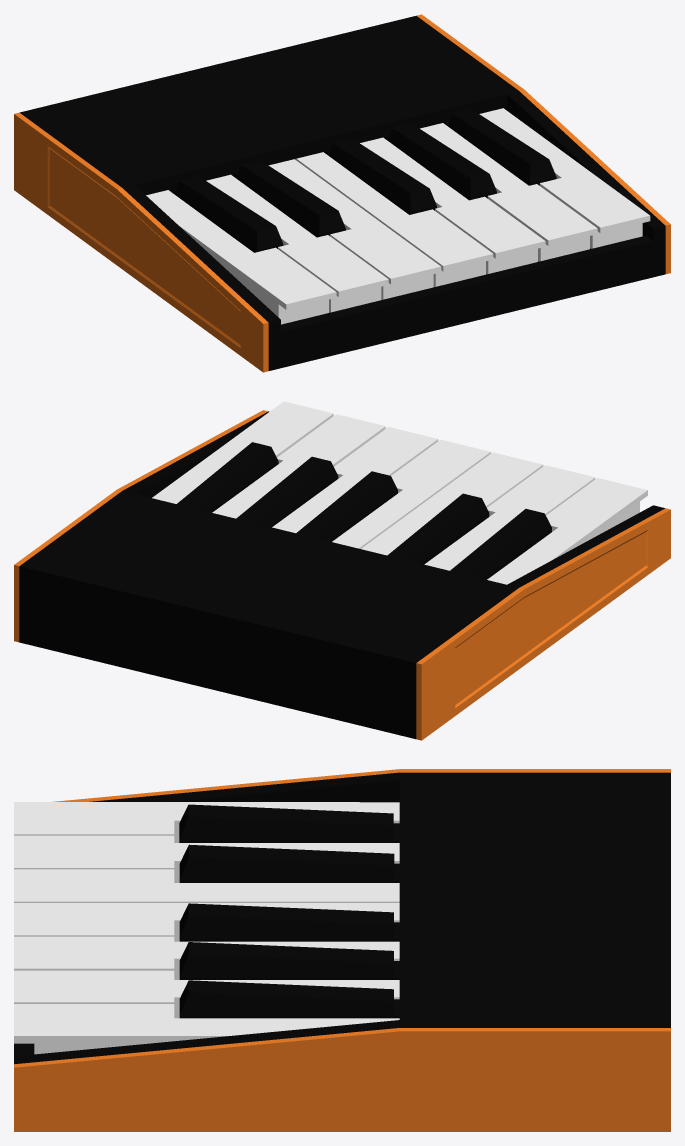
The model's file is keyboard_1_octave.glb.
The picture shows the model from 3 angles, top to bottom: view 1: azimuth 30°, elevation 25°; view 2: azimuth 150°, elevation 25°; view 3: azimuth 270°, elevation 25°; orthographic projection. The views are drawn at different scales.
Visible parts, largest first — view 1: body_keyboard, C, F, E, D, B, G, A, DSharp, CSharp, GSharp, FSharp (+1 smaller); view 2: body_keyboard, C, F, E, D, B, G, A, CSharp, DSharp, GSharp, FSharp (+1 smaller); view 3: body_keyboard, E, B, ASharp, FSharp, CSharp, C, D, DSharp, GSharp, G, F (+1 smaller).
Part boxes in pixels (box(x1,y1,x2,y2)): body_keyboard: box(14, 14, 670, 372); C: box(146, 190, 336, 324); F: box(295, 152, 493, 287); E: box(268, 159, 441, 299); D: box(206, 174, 388, 312); B: box(479, 108, 650, 248); G: box(360, 137, 545, 274); A: box(420, 123, 597, 261); DSharp: box(233, 160, 345, 237); CSharp: box(171, 176, 283, 252); GSharp: box(384, 123, 496, 200); FSharp: box(324, 138, 436, 214); body_keyboard: box(14, 410, 670, 740); C: box(487, 478, 647, 584); F: box(332, 439, 490, 548); E: box(361, 452, 543, 555); D: box(424, 465, 595, 570); B: box(152, 401, 333, 503); G: box(272, 427, 438, 533); A: box(212, 414, 385, 518); CSharp: box(450, 509, 551, 579); DSharp: box(387, 493, 489, 564); GSharp: box(236, 456, 338, 527); FSharp: box(296, 471, 397, 541); body_keyboard: box(14, 769, 670, 1131); E: box(14, 869, 399, 902); B: box(14, 1004, 399, 1054); ASharp: box(179, 980, 399, 1018); FSharp: box(179, 903, 399, 941); CSharp: box(179, 804, 399, 842); C: box(14, 802, 399, 842); D: box(14, 835, 399, 882); DSharp: box(179, 844, 399, 882); GSharp: box(179, 942, 399, 979); G: box(14, 936, 399, 979); F: box(14, 903, 399, 941).
Size of the model in its own units: 0.3193 by 0.0589 by 0.338.
